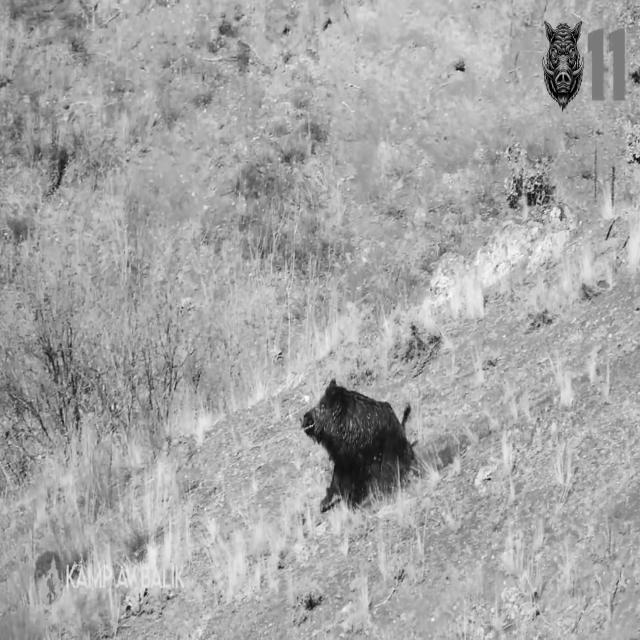boar: (302, 379, 414, 511)
